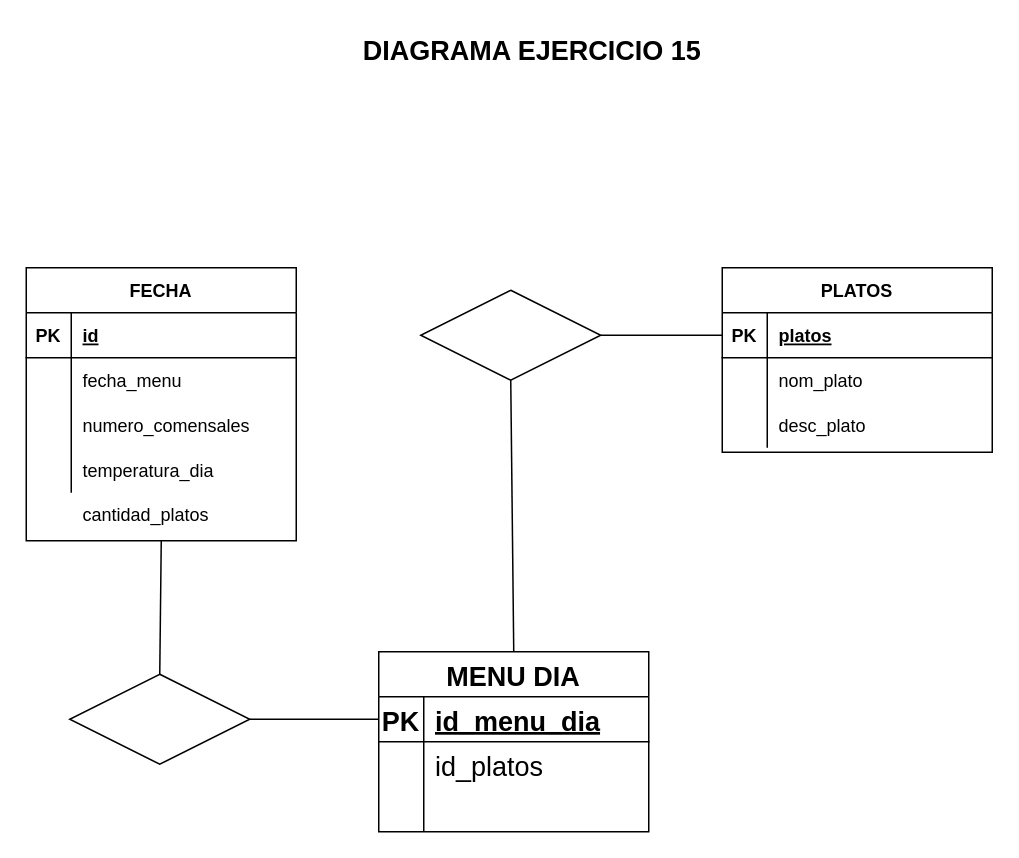
Image size: 1019x858. Some labels were removed from this diagram. Each missing label, with the centre of its shape:
COMPONE: the point at 510,334
SERVIDO: the point at 159,718
